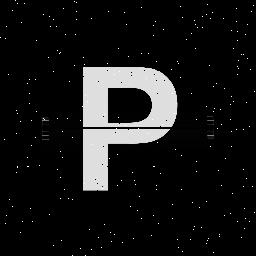p: (73, 58, 181, 196)
